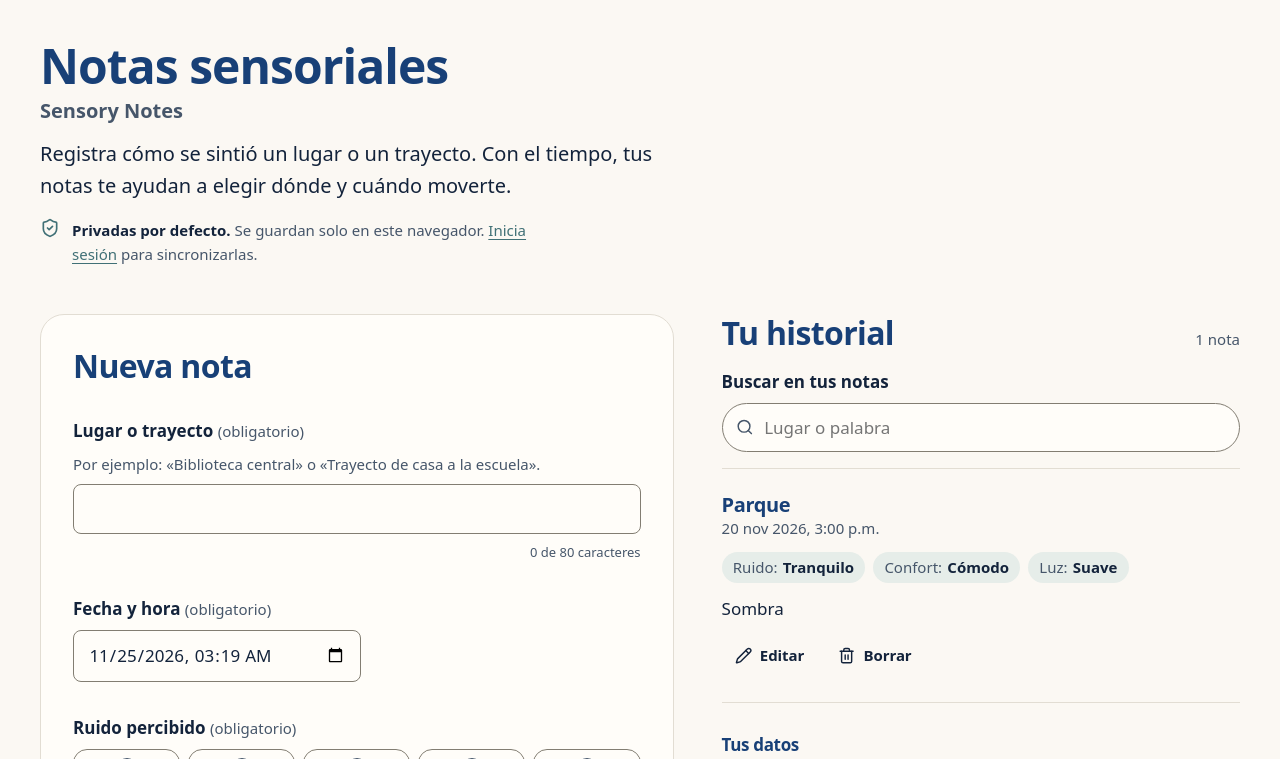
Test case: Notas sensoriales (sin cuenta) › edita una nota: la abre en el formulario, guarda los cambios y permite cancelar
The image size is (1280, 759).
Click the button with aria-label "Editar la nota de Parque".
click(769, 656)  # box [722, 634, 817, 678]
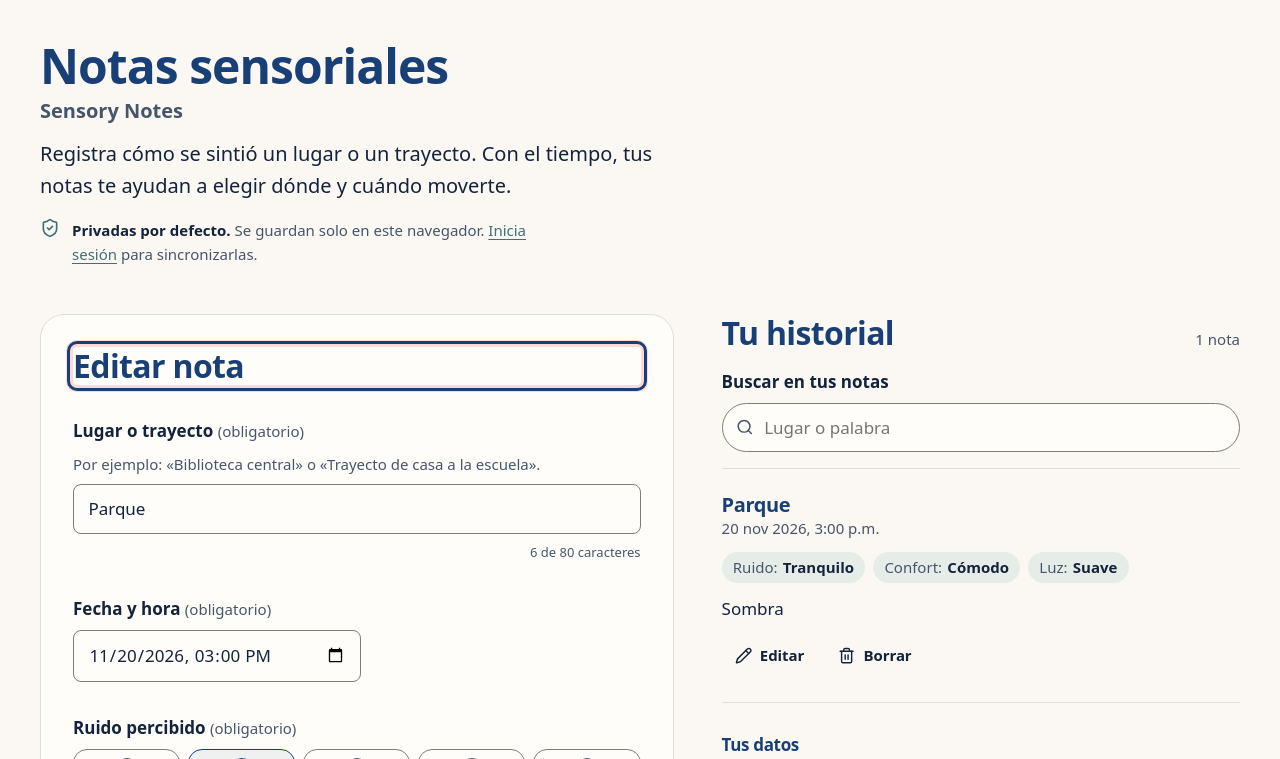
Now the field labelled "Lugar o trayecto (obligatorio)" holds "Parque"
Replace the text in the field labelled "Lugar o trayecto (obligatorio)" with "Parque Hundido" at [357, 509], box [73, 484, 641, 534]
(page scrolled)
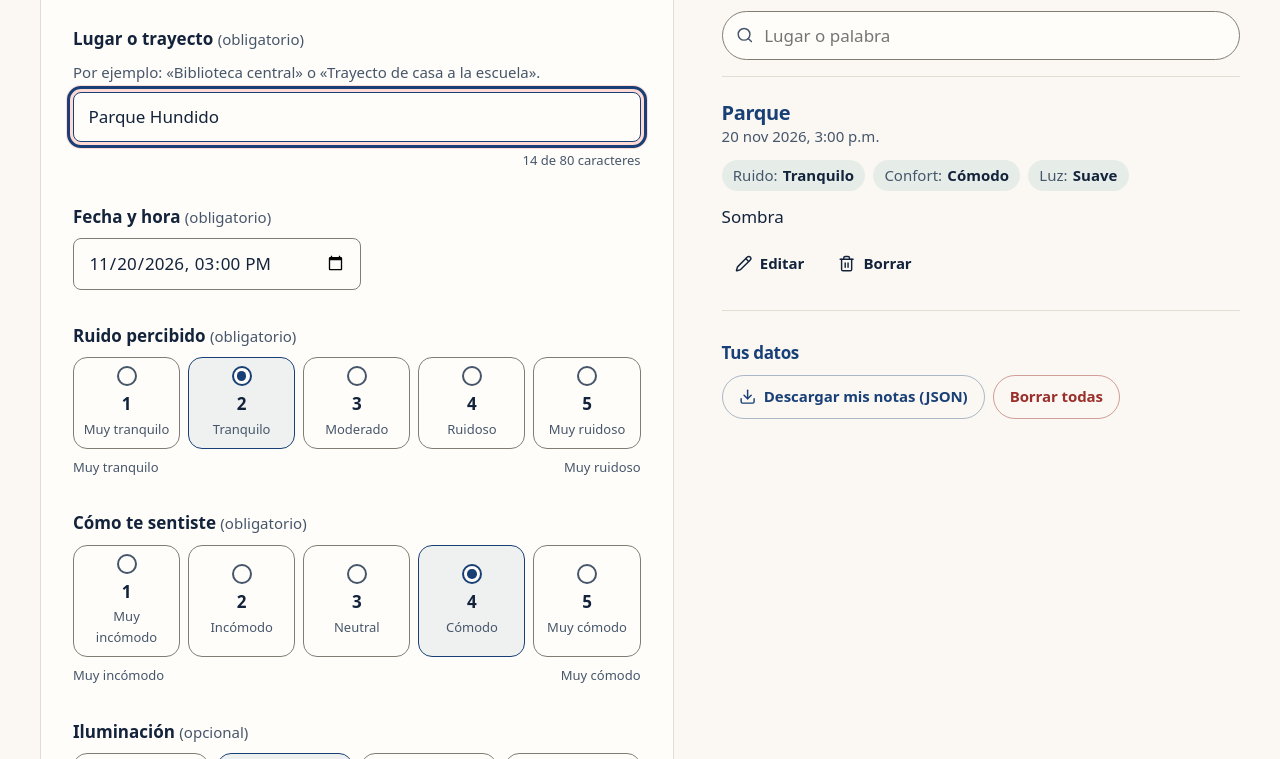
Click the radio button labelled "4 Ruidoso".
click(472, 376)  # box [462, 366, 482, 386]
(page scrolled)
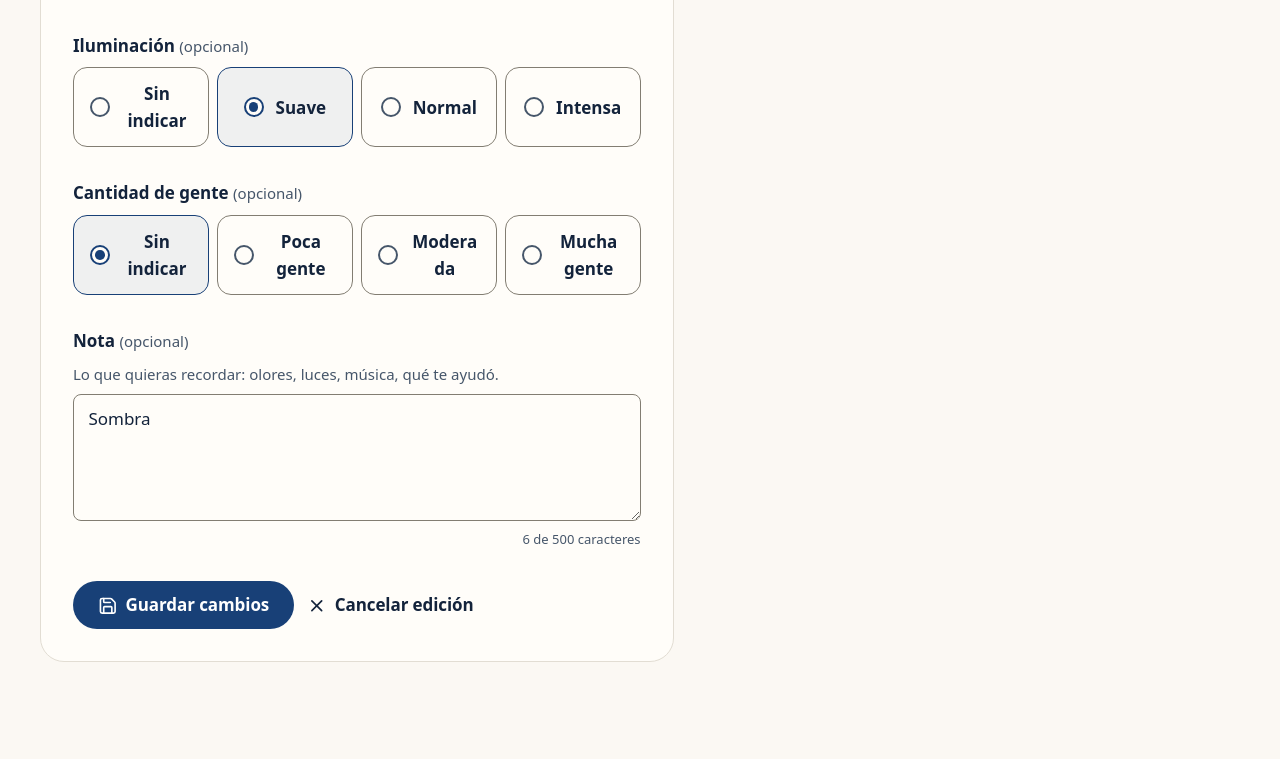
Click the button "Guardar cambios".
click(184, 605)  # box [73, 581, 294, 629]
(page scrolled)
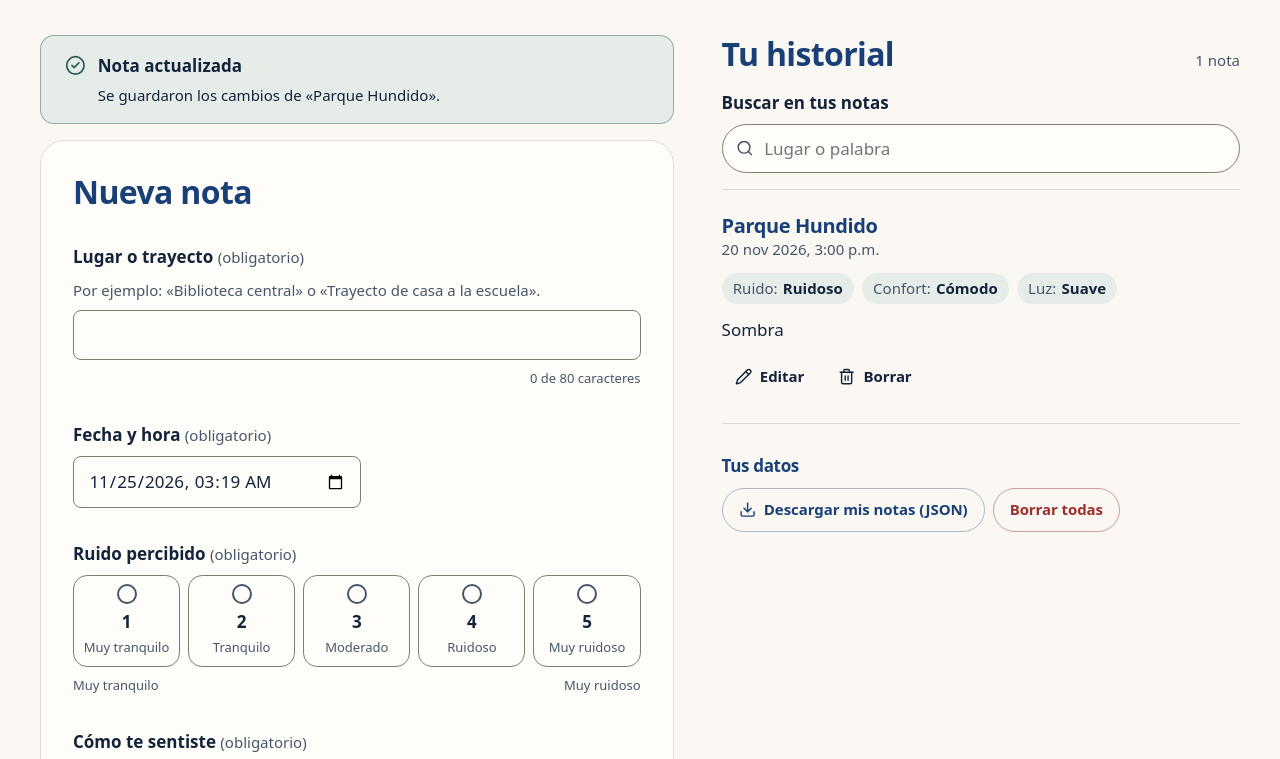
Now the text "Se guardaron los cambios de «Parque Hundido»." is shown, box [98, 83, 440, 107]
Now the heading "Nueva nota" is shown, box [73, 170, 252, 213]
Click the button with aria-label "Editar la nota de Parque Hundido".
click(769, 377)  # box [722, 355, 817, 399]
(page scrolled)
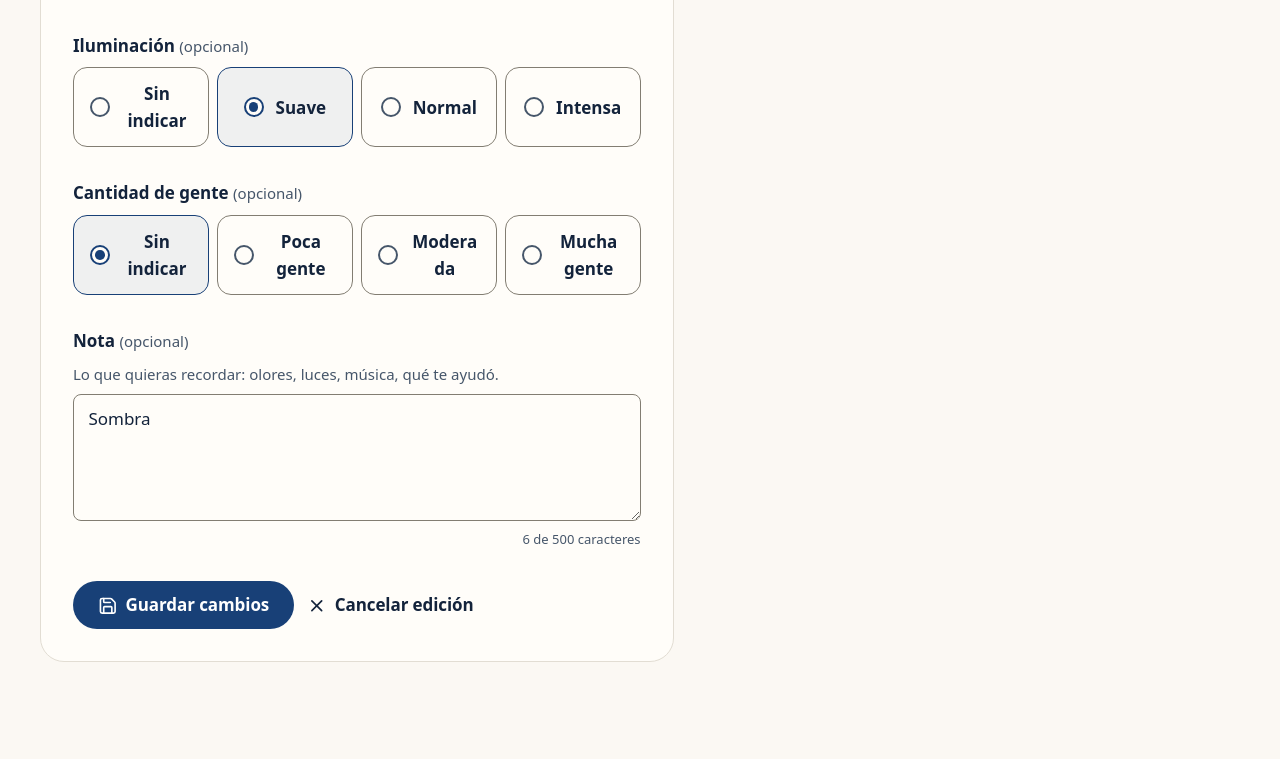
Click the button "Cancelar edición".
click(390, 605)  # box [294, 581, 487, 629]
(page scrolled)
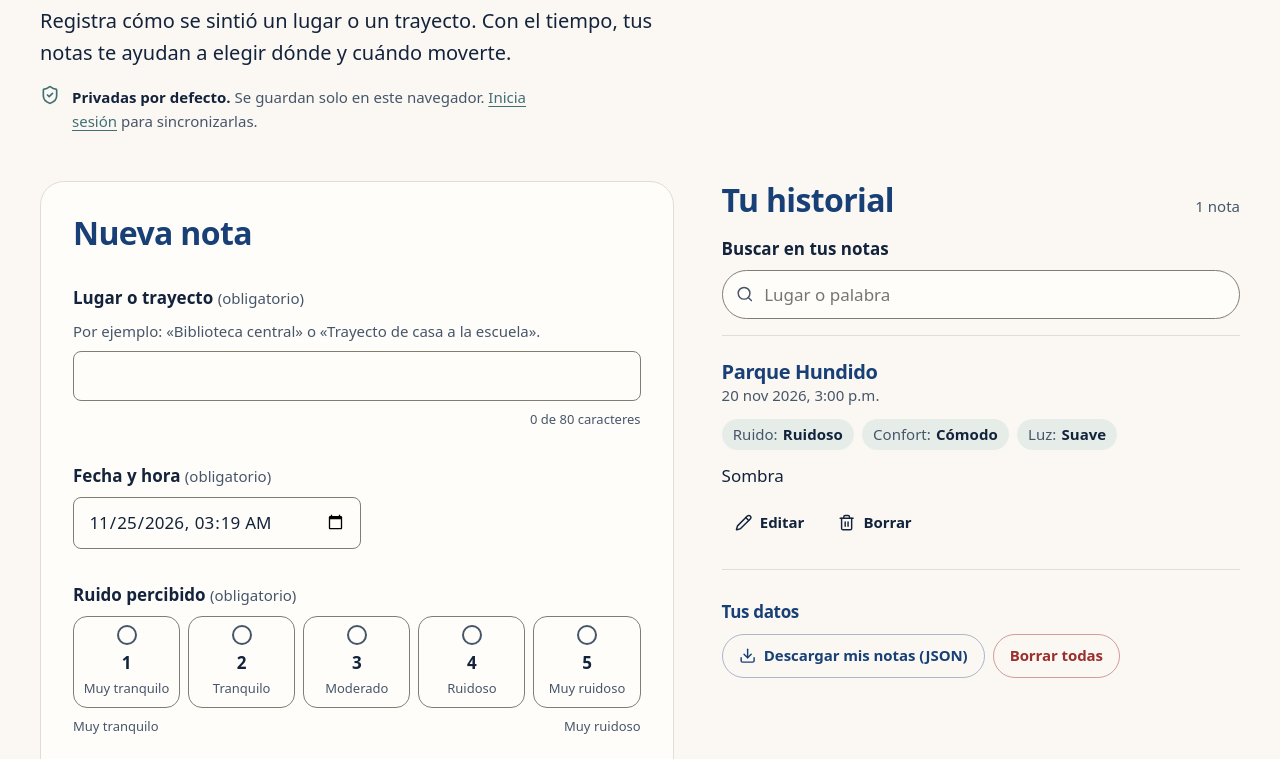
Now the heading "Nueva nota" is shown, box [73, 211, 252, 254]
Now the field labelled "Lugar o trayecto (obligatorio)" is empty, box [73, 351, 641, 401]
